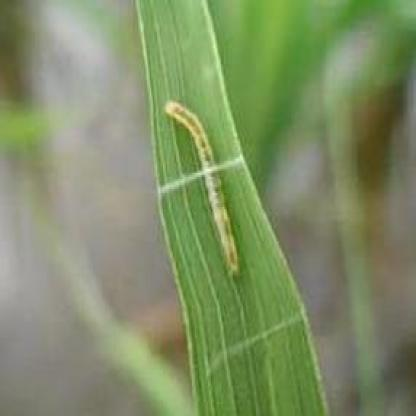leaf-folder: (156, 89, 250, 286)
